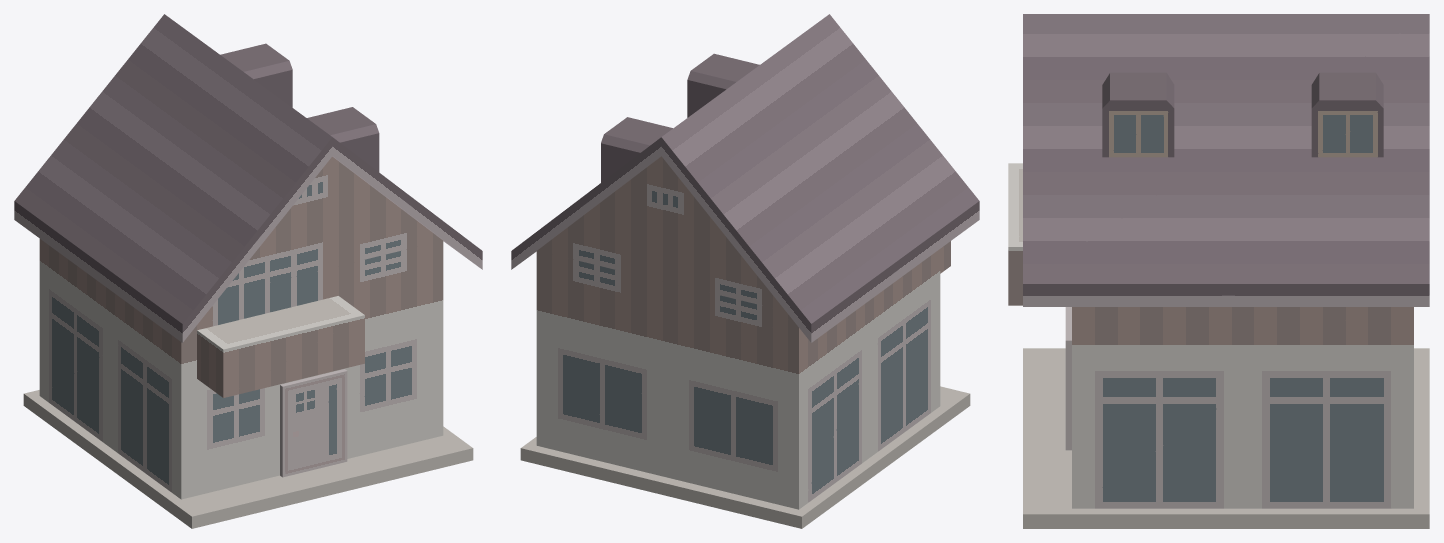
Rendered from 025f_Saito_Residence.glb.
The picture shows the model from 3 angles, left to right: view 1: azimuth 30°, elevation 25°; view 2: azimuth 150°, elevation 25°; view 3: azimuth 270°, elevation 25°; orthographic projection. The views are drawn at different scales.
Visible parts, largest first — view 1: part_0; view 2: part_0; view 3: part_0.
Boxes of the visible parts, x1,y1,x2,y2 form: part_0: [14, 14, 482, 528]; part_0: [511, 14, 979, 528]; part_0: [1008, 14, 1429, 528].
Size of the model in its own units: 6.4 by 7.29 by 6.44.
Materials: 1 (1 with a texture image).
